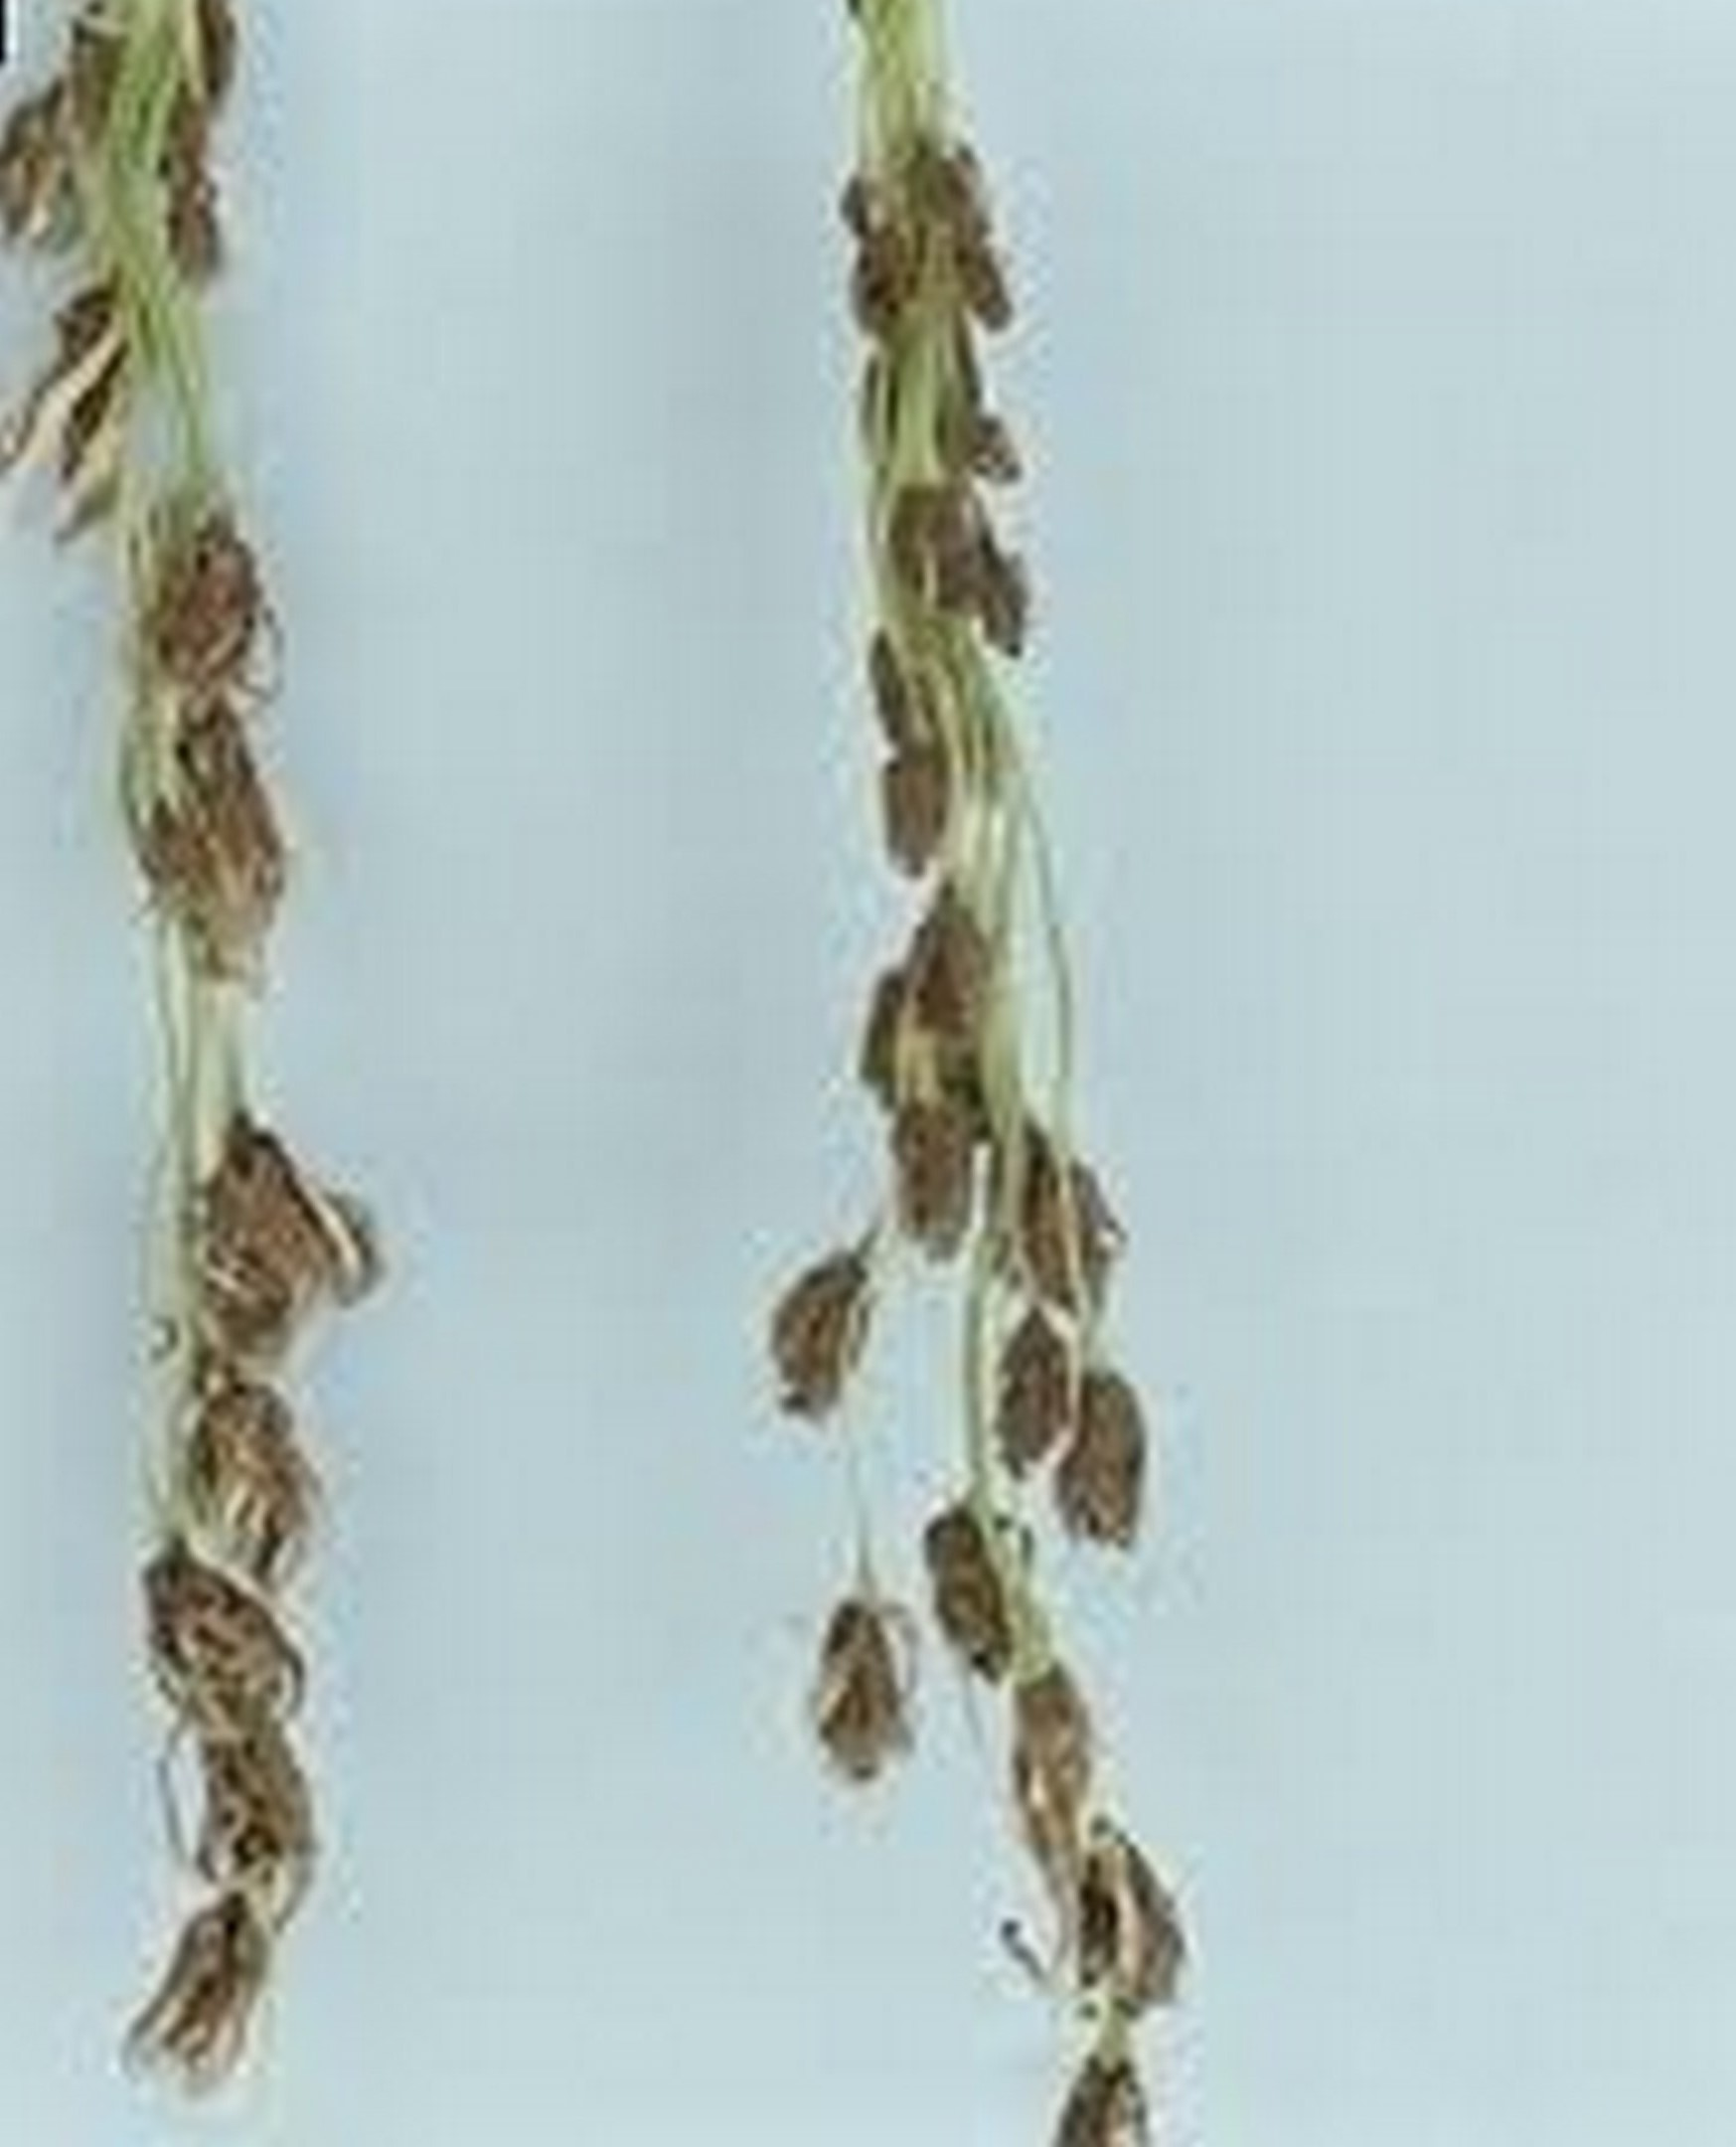Wheat Loose Smut: (739, 112, 1293, 2067)
